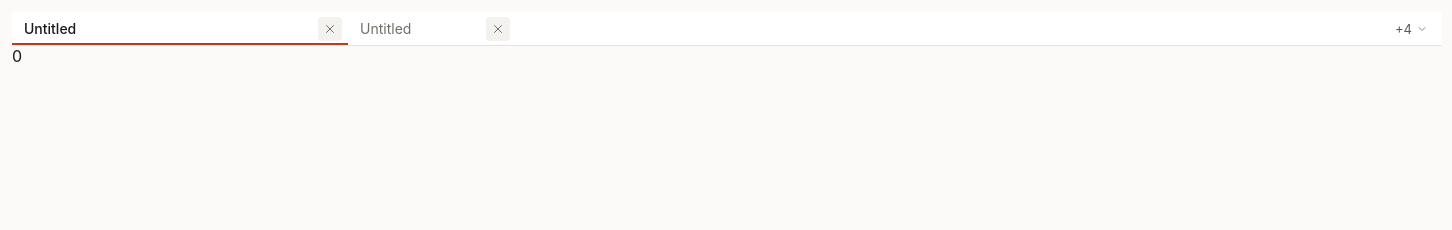
Test: TabBar › closes an overflowed tab from the menu, without opening it first
The width and height of the screenshot is (1452, 230).
Click the button named "4 more open notes": (1412, 28) [1389,12,1434,44]
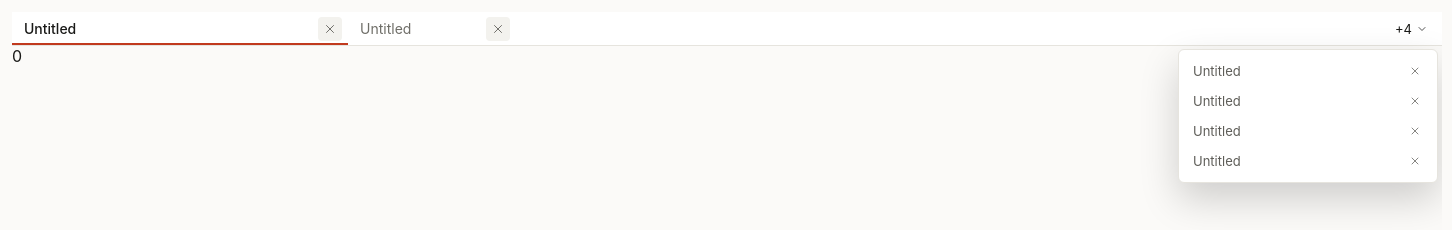
Click the 6th button named "Close ": (1415, 161) [1403,149,1427,173]
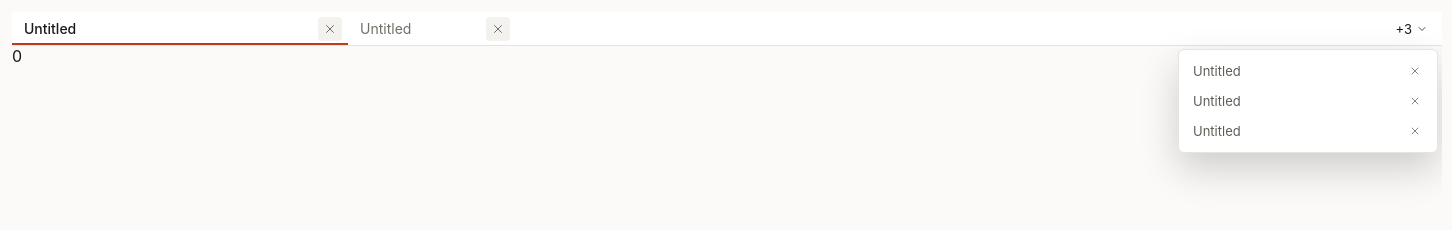
Check: the number of menu items is 3, box [1185,56,1431,86]; [1185,86,1431,116]; [1185,116,1431,146]
